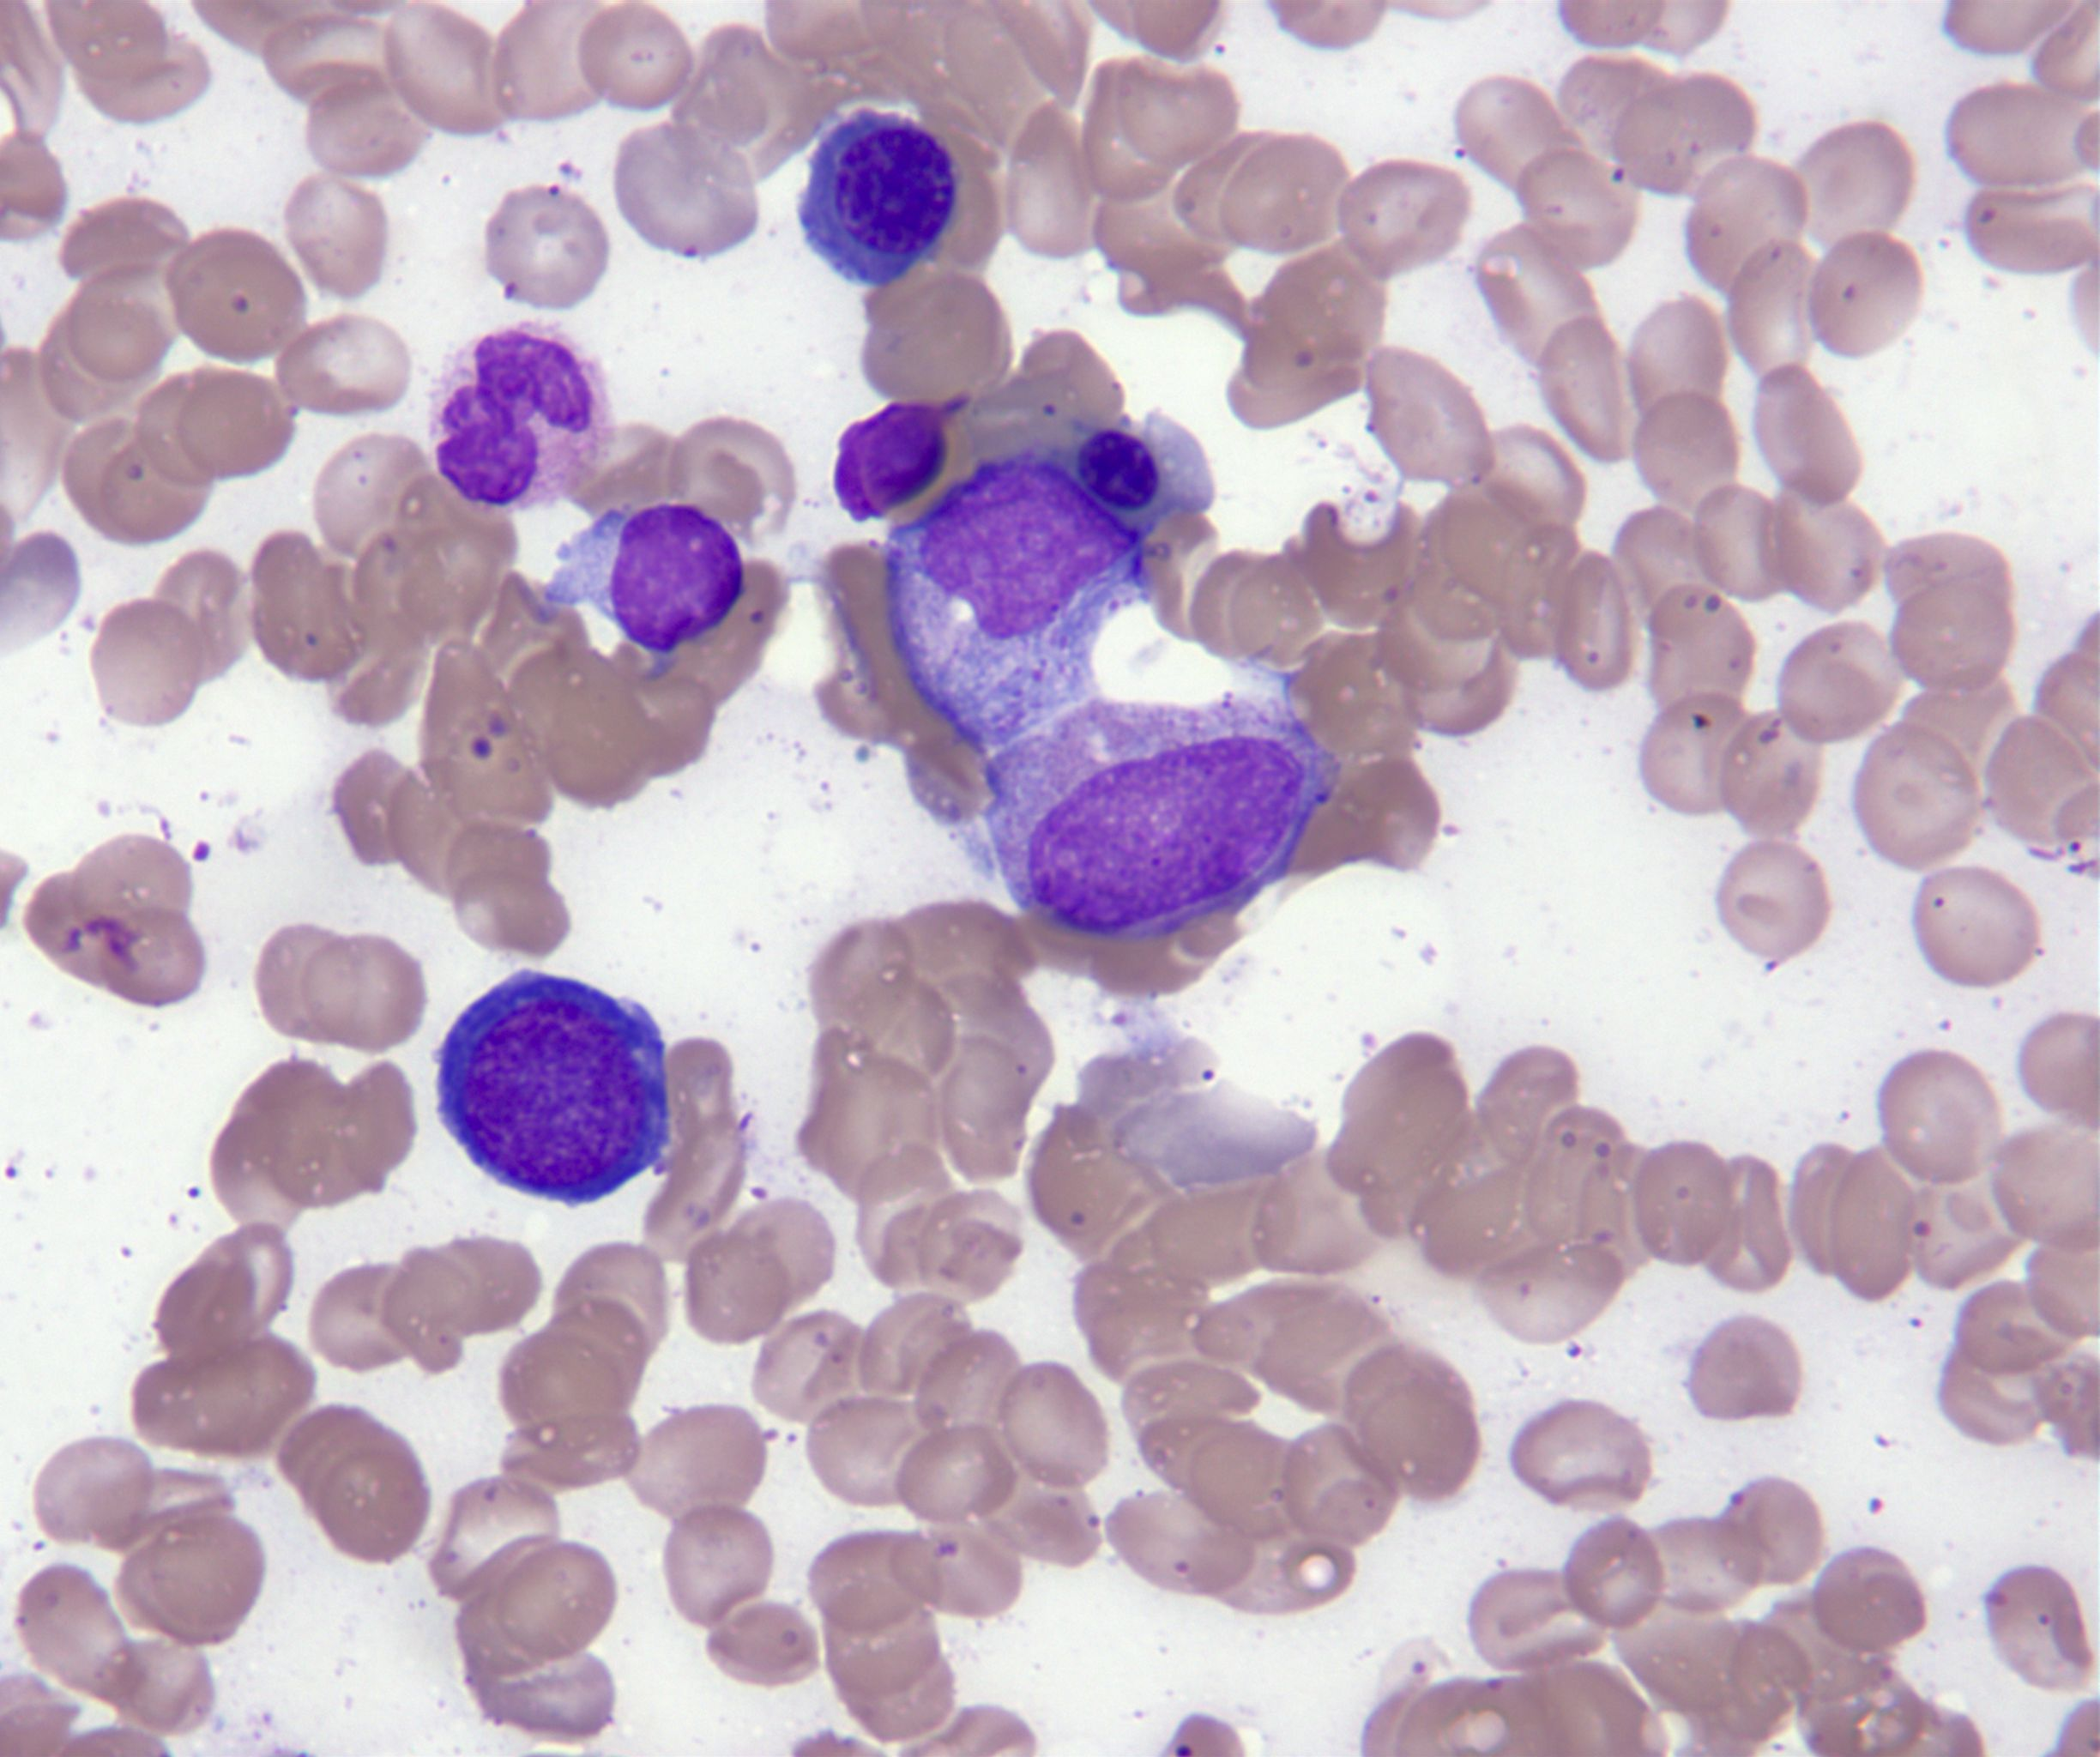22: (436, 968, 670, 1207)
24: (795, 106, 958, 288), (1040, 410, 1212, 536)
3: (982, 646, 1340, 944), (888, 457, 1149, 755)
32: (541, 504, 743, 680)
6: (427, 323, 616, 520)
x: (834, 391, 973, 523)
